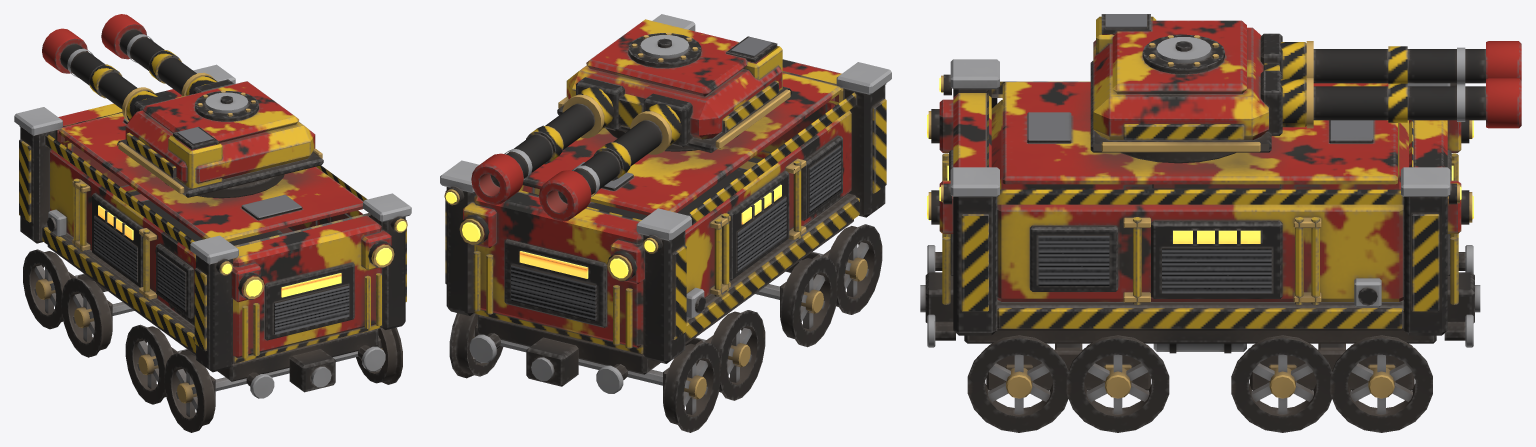
Rendered from SM_DRL_DoubleGunCar.fbx.
The picture shows the model from 3 angles, left to right: view 1: azimuth 30°, elevation 25°; view 2: azimuth 150°, elevation 25°; view 3: azimuth 270°, elevation 25°; orthographic projection. The views are drawn at different scales.
Parts seen in each view (by area): view 1: Body, Turret, Axle_4, Cannon_L, Cannon_R, Axle_2, Axle_3, Axle_1; view 2: Body, Turret, Axle_1, Cannon_L, Cannon_R, Axle_3, Axle_2, Axle_4; view 3: Body, Turret, Cannon_R, Cannon_L, Axle_3, Axle_1, Axle_4, Axle_2.
Boxes of the visible parts, <box> form: Body: <box>14,64,411,406</box>; Turret: <box>117,79,323,198</box>; Axle_4: <box>164,327,402,432</box>; Cannon_L: <box>42,28,157,121</box>; Cannon_R: <box>101,14,217,96</box>; Axle_2: <box>61,277,134,357</box>; Axle_3: <box>125,324,187,404</box>; Axle_1: <box>23,249,84,329</box>; Body: <box>440,14,891,403</box>; Turret: <box>557,19,791,152</box>; Axle_1: <box>449,313,721,432</box>; Cannon_L: <box>539,103,681,221</box>; Cannon_R: <box>471,87,613,204</box>; Axle_3: <box>755,256,837,347</box>; Axle_2: <box>695,310,765,400</box>; Axle_4: <box>812,224,882,314</box>; Body: <box>920,59,1480,390</box>; Turret: <box>1090,14,1282,163</box>; Cannon_R: <box>1280,78,1521,128</box>; Cannon_L: <box>1280,41,1521,84</box>; Axle_3: <box>1066,335,1169,432</box>; Axle_1: <box>1330,335,1432,432</box>; Axle_4: <box>967,335,1068,432</box>; Axle_2: <box>1231,335,1332,432</box>.
Bounding box in the file's own units: 1.1 × 2.19 × 1.33.
